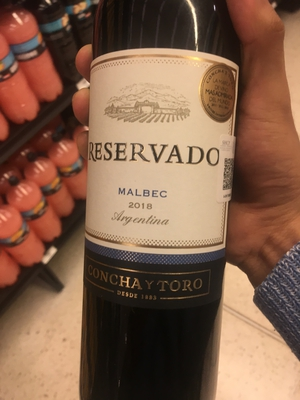reservado malbec: (74, 8, 251, 387)
